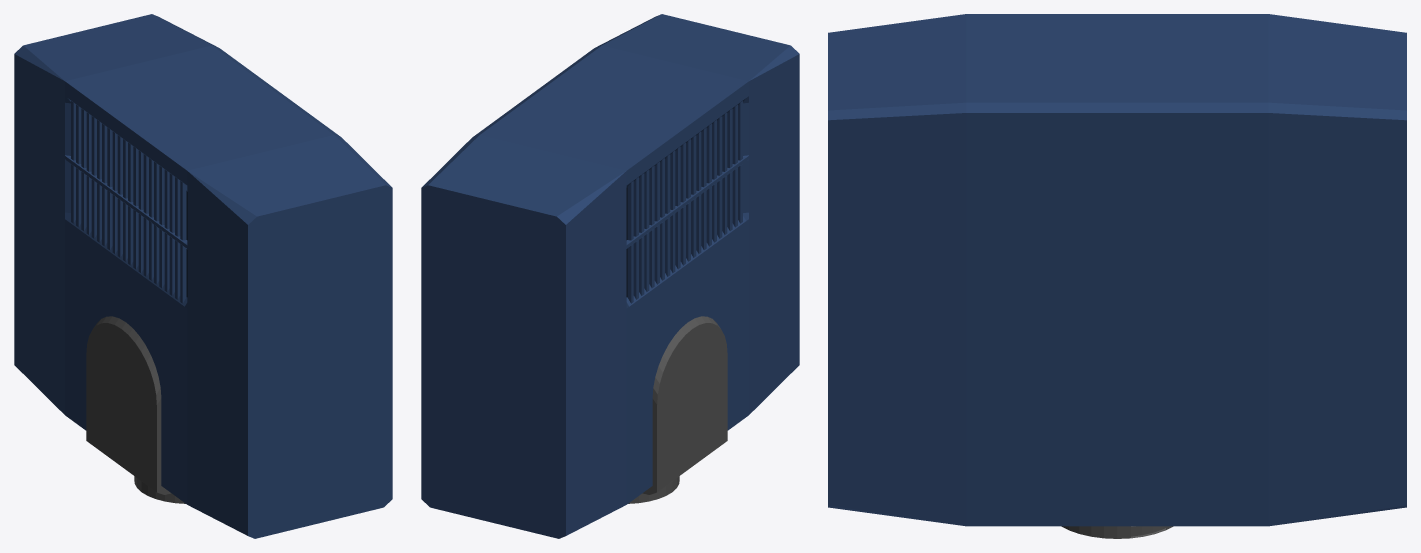
The model's file is projector.obj.
3 views of the same model, side by side, from view 1: azimuth 30°, elevation 25°; view 2: azimuth 150°, elevation 25°; view 3: azimuth 270°, elevation 25° (orthographic). The views are drawn at different scales.
Parts seen in each view (by area): view 1: Projector; view 2: Projector; view 3: Projector.
Boxes of the visible parts, box(x1,y1,x2,y2) form: Projector: box(14, 14, 392, 538); Projector: box(421, 14, 799, 538); Projector: box(828, 14, 1406, 538).
Size of the model in its own units: 0.1662 by 0.3696 by 0.4231.
